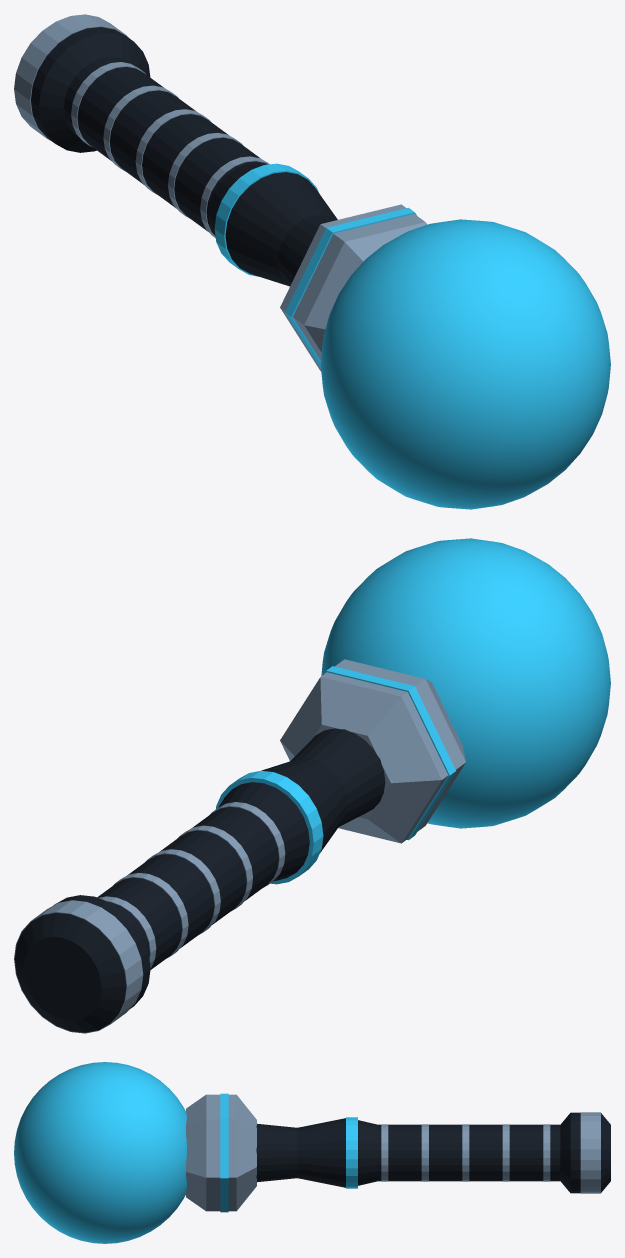
Rendered from SM_StellarExplosion.obj.
The picture shows the model from 3 angles, top to bottom: view 1: azimuth 30°, elevation 25°; view 2: azimuth 150°, elevation 25°; view 3: azimuth 270°, elevation 25°; orthographic projection. The views are drawn at different scales.
Parts seen in each view (by area): view 1: SM_StellarExplosion; view 2: SM_StellarExplosion; view 3: SM_StellarExplosion.
Part boxes in pixels (x1=…): SM_StellarExplosion: x1=14, y1=14, x2=610, y2=509; SM_StellarExplosion: x1=14, y1=538, x2=610, y2=1033; SM_StellarExplosion: x1=14, y1=1062, x2=610, y2=1243.
Size of the model in its own units: 18 by 18 by 59.
